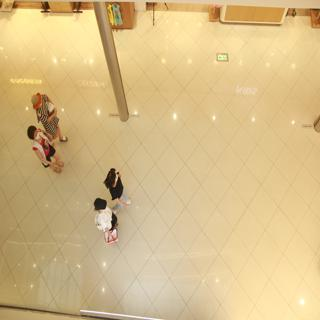person: (24, 121, 66, 178), (27, 88, 70, 141), (89, 194, 124, 246), (105, 164, 137, 211)
